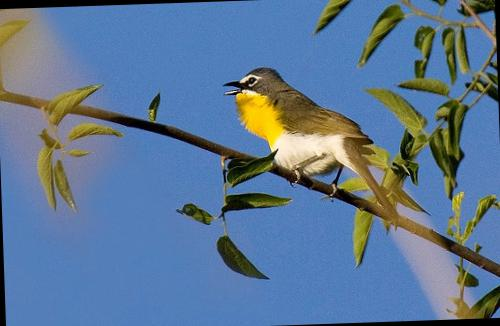bird: (214, 54, 408, 238)
